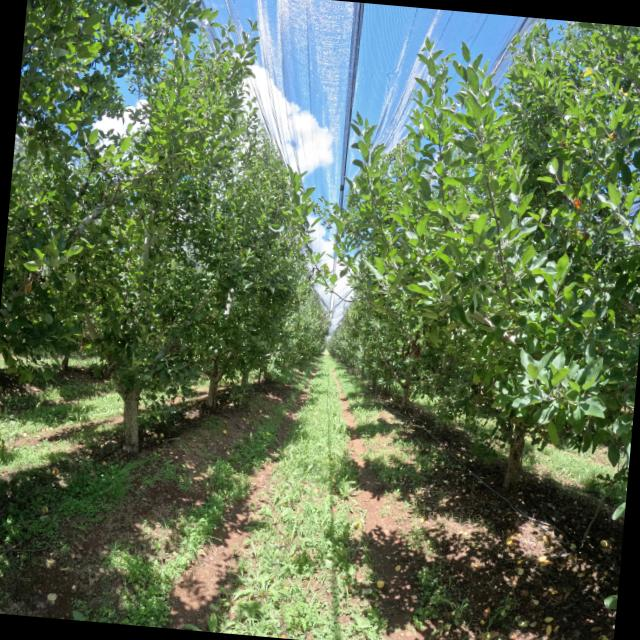-FireBlight-: (17, 269, 44, 296), (399, 331, 423, 360)
